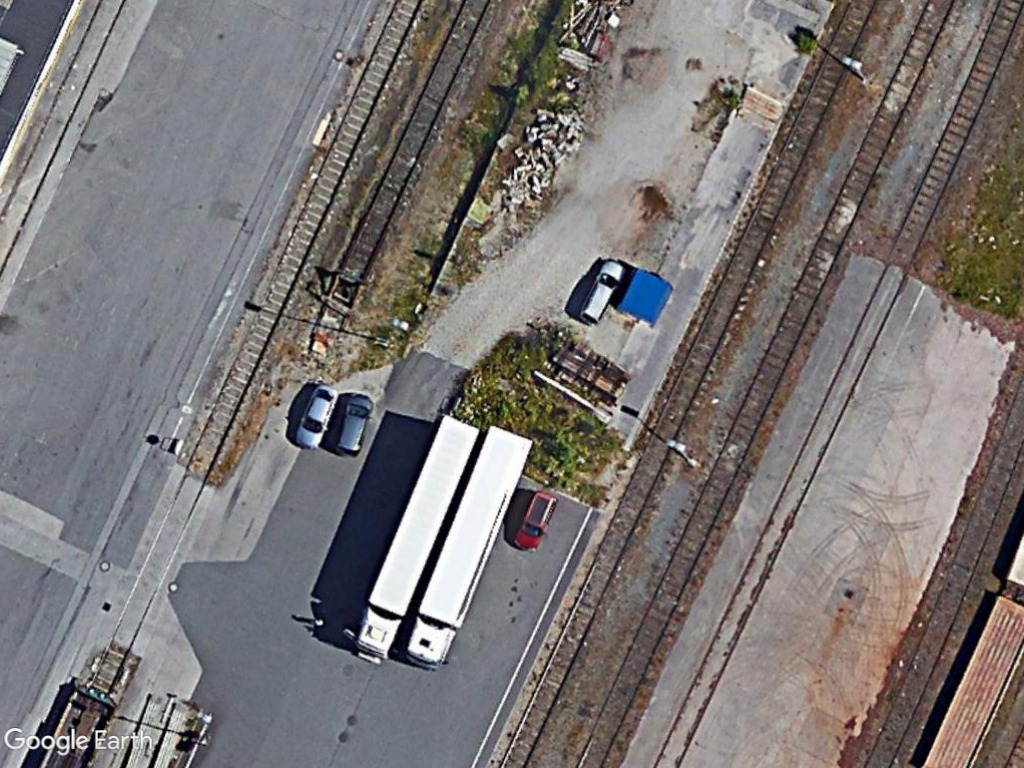car: (574, 252, 629, 328), (292, 378, 342, 453), (332, 388, 375, 459)
longvehicle: (400, 423, 538, 673), (351, 411, 482, 665)
